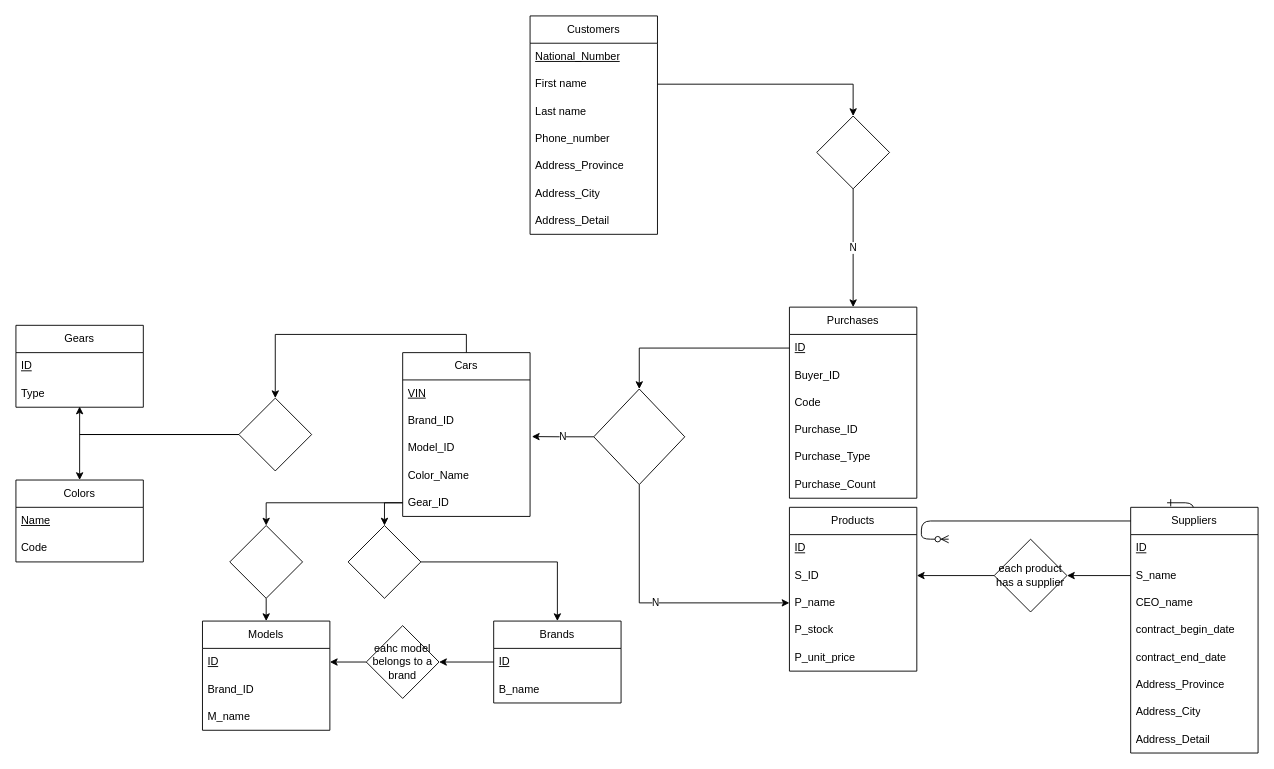
This 1274x769 diagram has some shape labels left out. The centre of each missing label's shape, as x and y in pixels:
"Car has a brand" belongs at (x=384, y=561).
"Car has a model" belongs at (x=266, y=561).
"each customer can have many purchases" belongs at (x=853, y=152).
"each purchase can be a car or product" belongs at (x=639, y=436).
"Options" belongs at (x=275, y=434).
